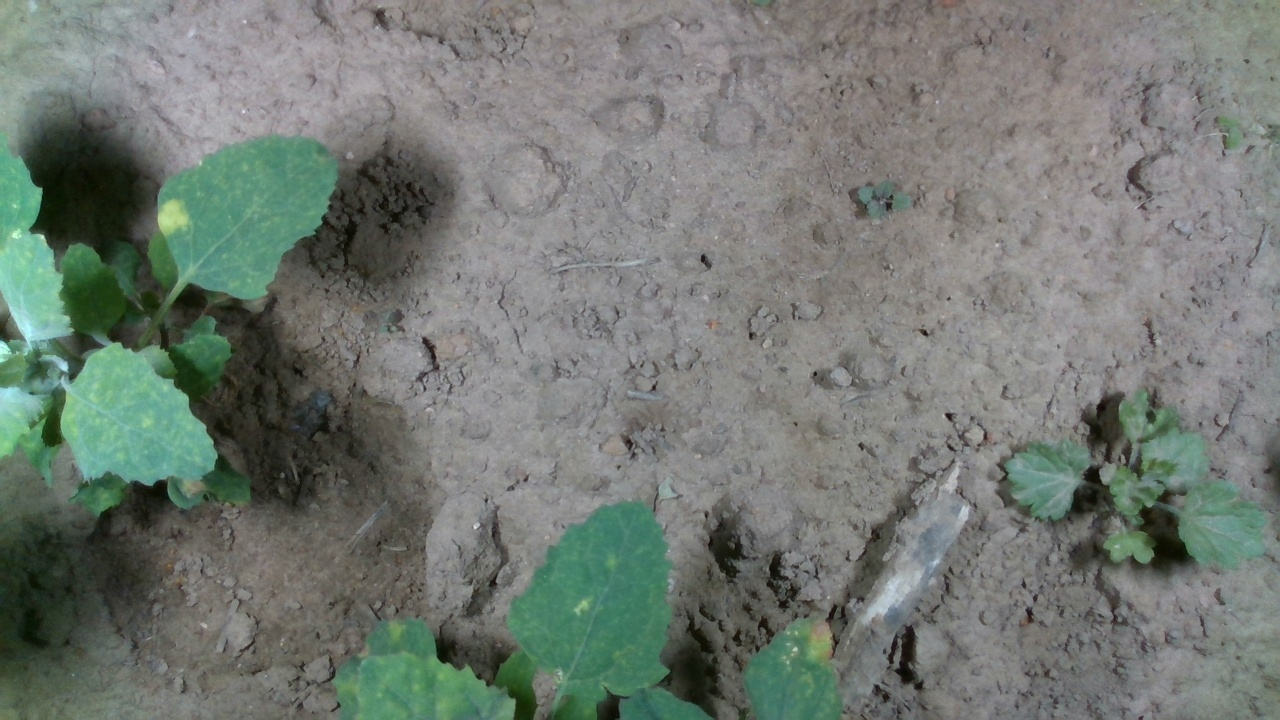weed: (849, 175, 911, 223)
